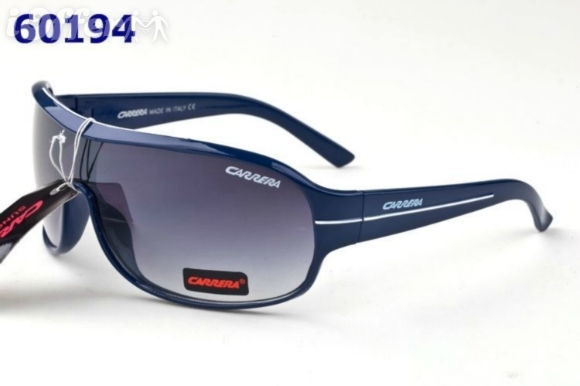sunglasses: (10, 78, 553, 320)
